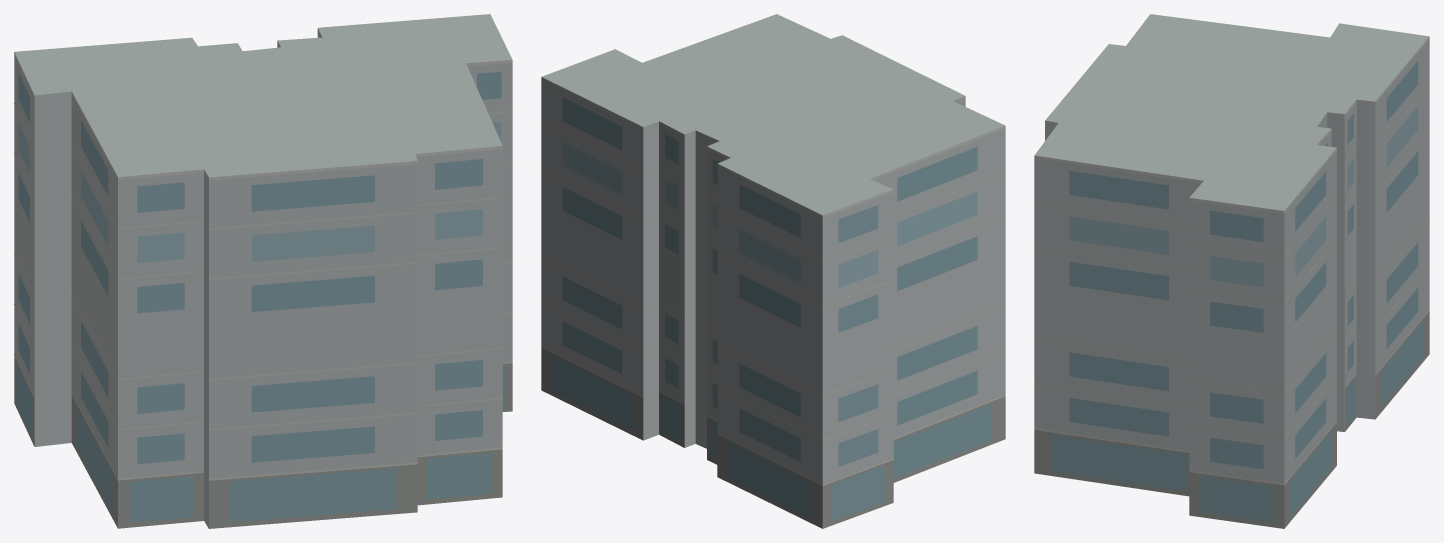
The model's file is survey-upis-32700811.glb.
3 views of the same model, side by side, from view 1: azimuth 30°, elevation 25°; view 2: azimuth 150°, elevation 25°; view 3: azimuth 270°, elevation 25° (orthographic). The views are drawn at different scales.
Visible parts, largest first — view 1: survey-upis-32700811.tmp; view 2: survey-upis-32700811.tmp; view 3: survey-upis-32700811.tmp.
Part boxes in pixels (x1,y1,x2,y2): survey-upis-32700811.tmp: [14, 14, 512, 528]; survey-upis-32700811.tmp: [541, 14, 1005, 528]; survey-upis-32700811.tmp: [1034, 14, 1429, 528].
Bounding box in the file's own units: 35.65 × 26.8 × 30.23.
